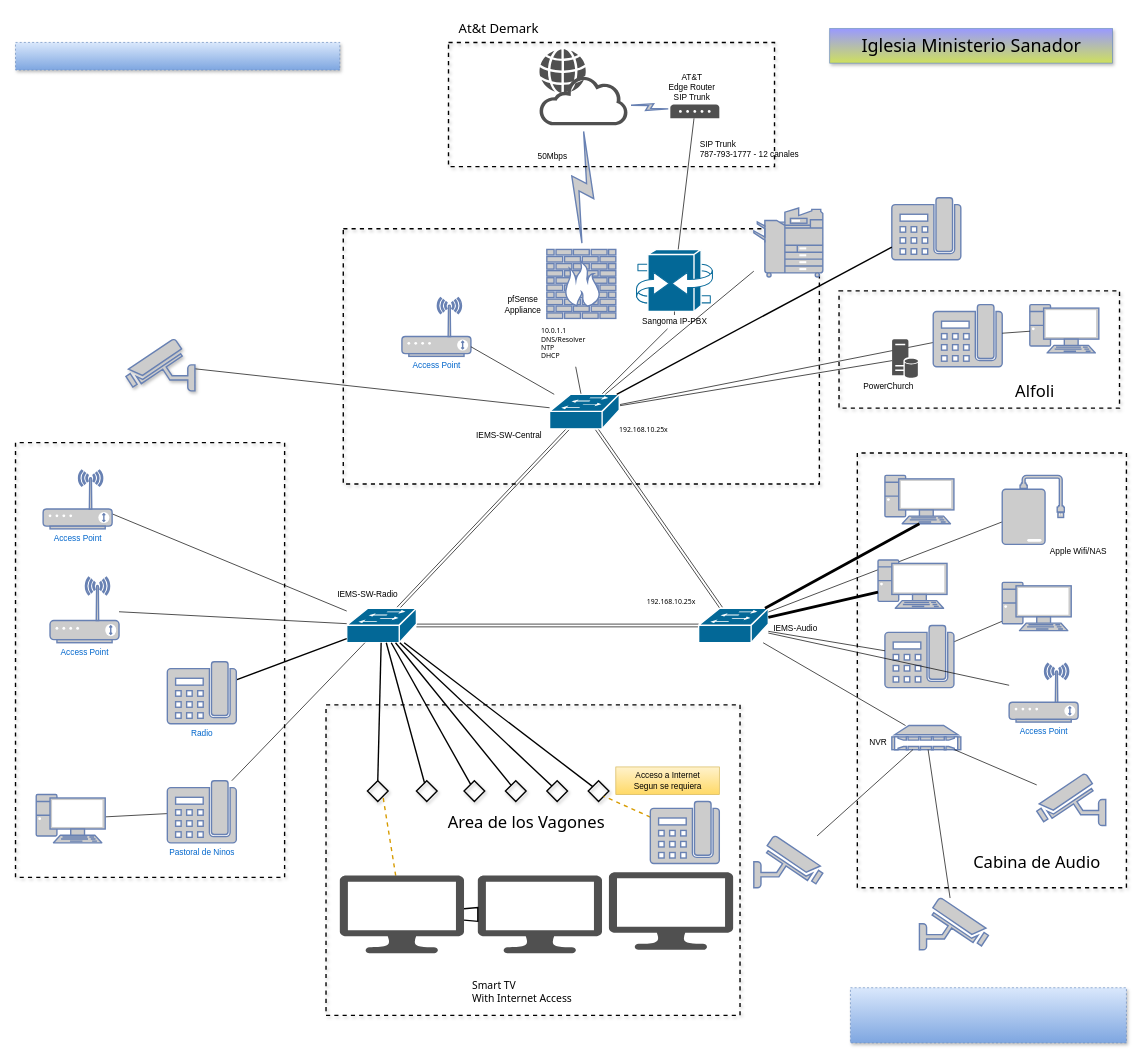
This 1143x1060 diagram has some shape labels left out. Here are the shapes that lost their labels. From the top down, the centre of each, then its label:
At (x=178, y=57): "Network de Telecomunicaciones".
At (x=584, y=100): "AT&T".
At (x=788, y=242): "Xerox WorkCenter".
At (x=989, y=1016): "Diseño: José Daniel Güisao Camaras: Felix Chevere".
